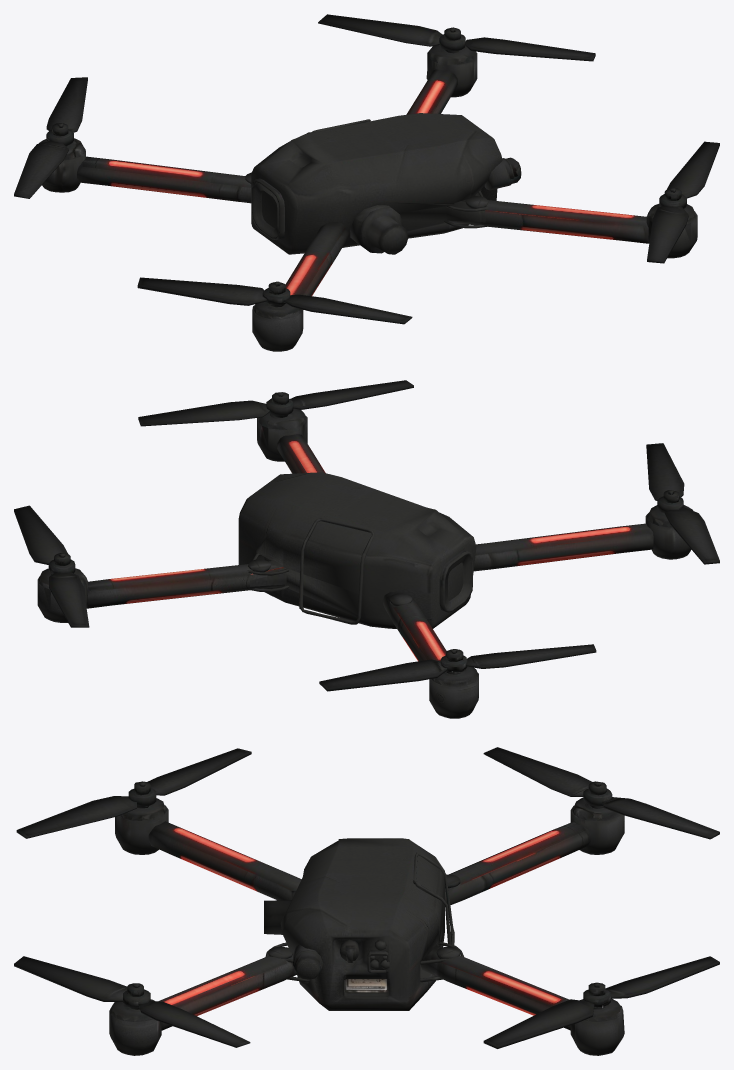
The model's file is quadrotor-split.glb.
The picture shows the model from 3 angles, top to bottom: view 1: azimuth 30°, elevation 25°; view 2: azimuth 150°, elevation 25°; view 3: azimuth 270°, elevation 25°; orthographic projection. The views are drawn at different scales.
Visible parts, largest first — view 1: tripo_part_0, tripo_part_12, tripo_part_18, tripo_part_10, tripo_part_17, tripo_part_1, tripo_part_45, tripo_part_47, tripo_part_48, tripo_part_46, tripo_part_44, tripo_part_5 (+9 smaller); view 2: tripo_part_0, tripo_part_10, tripo_part_16, tripo_part_12, tripo_part_2, tripo_part_49, tripo_part_43, tripo_part_48, tripo_part_46, tripo_part_45, tripo_part_6, tripo_part_42 (+7 smaller); view 3: tripo_part_0, tripo_part_10, tripo_part_12, tripo_part_16, tripo_part_18, tripo_part_46, tripo_part_6, tripo_part_42, tripo_part_44, tripo_part_5, tripo_part_48, tripo_part_2 (+8 smaller).
Part boxes in pixels (x1,y1,x2,y2): tripo_part_0: (251,113,502,254); tripo_part_12: (77,156,251,203); tripo_part_18: (448,199,649,243); tripo_part_10: (285,223,349,296); tripo_part_17: (350,205,408,254); tripo_part_1: (252,302,303,351); tripo_part_45: (137,277,266,305); tripo_part_47: (318,14,442,46); tripo_part_48: (14,140,68,198); tripo_part_46: (465,37,595,61); tripo_part_44: (283,294,412,324); tripo_part_5: (426,45,477,97); tripo_part_0: (238,472,476,628); tripo_part_10: (473,523,653,571); tripo_part_16: (86,561,284,608); tripo_part_12: (383,592,446,661); tripo_part_2: (429,666,478,718); tripo_part_49: (319,659,447,691); tripo_part_43: (138,400,269,426); tripo_part_48: (466,644,596,668); tripo_part_46: (14,505,67,564); tripo_part_45: (665,507,719,564); tripo_part_6: (257,408,307,461); tripo_part_42: (290,380,413,409); tripo_part_0: (280,838,444,1010); tripo_part_10: (148,821,301,900); tripo_part_12: (445,821,591,905); tripo_part_16: (421,945,570,1030); tripo_part_18: (159,953,297,1030); tripo_part_46: (483,999,594,1048); tripo_part_6: (109,999,161,1055); tripo_part_42: (14,956,127,1001); tripo_part_44: (16,796,136,838); tripo_part_5: (570,998,624,1055); tripo_part_48: (483,747,592,796); tripo_part_2: (570,797,624,854).
Size of the model in its own units: 1 by 0.1389 by 1.
Materials: 1 (1 with a texture image).
